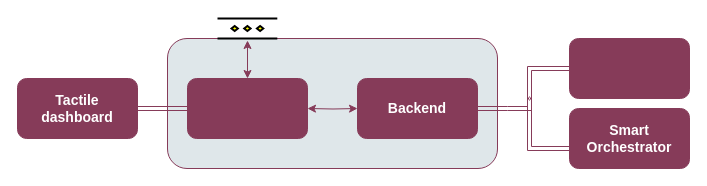
Image size: 707x186. Some labels were removed from this diagram. The shapes that lost their labels are listed below. From the top down, each one's centre as x and y in pixels, then its label:
(x=629, y=68): LTSE
(x=247, y=108): Frontend
